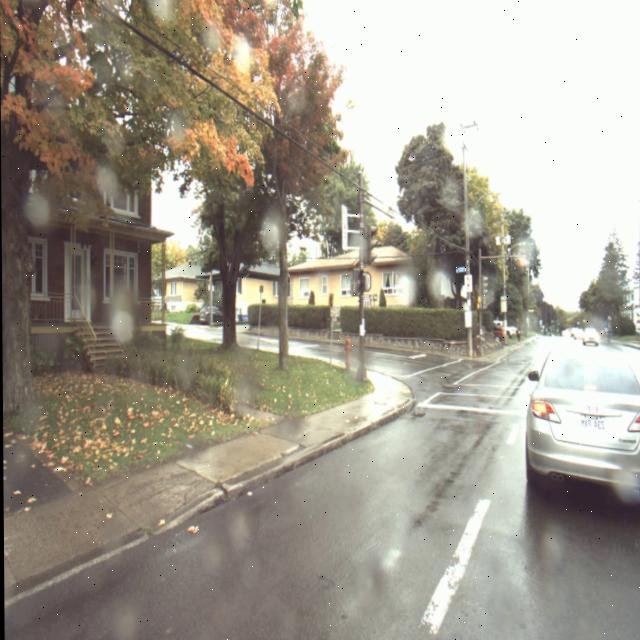trafficLight-Yellow: (518, 253, 526, 264)
